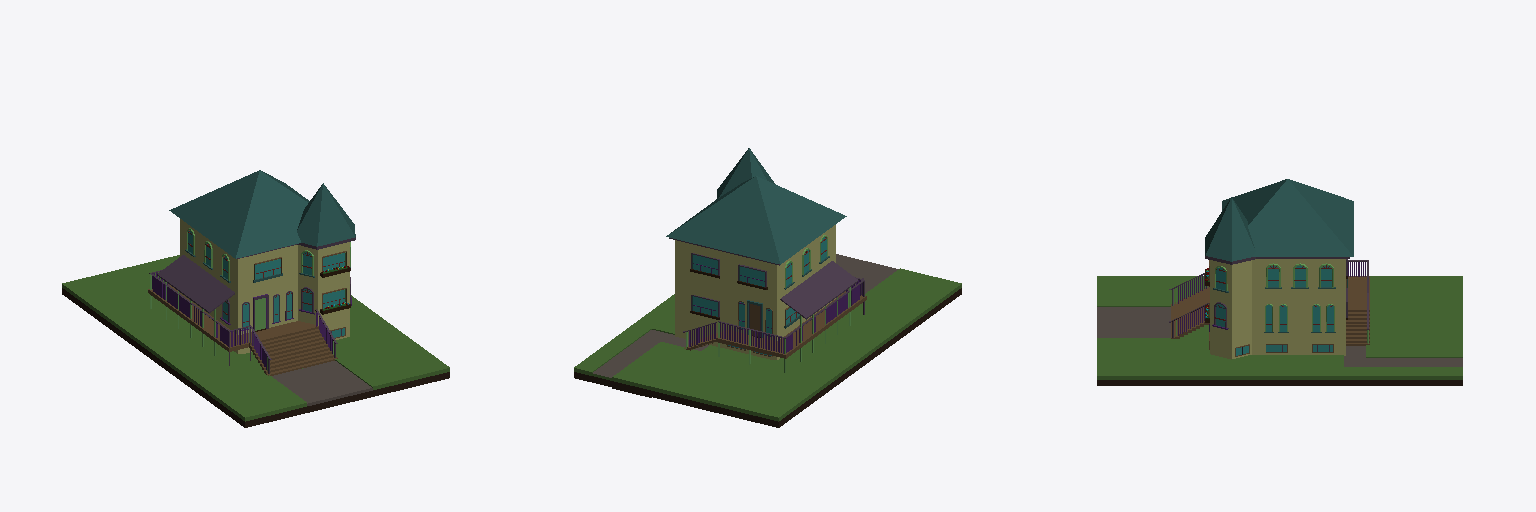
The model's file is house_6_on_lot.obj.
3 views of the same model, side by side, from view 1: azimuth 30°, elevation 25°; view 2: azimuth 150°, elevation 25°; view 3: azimuth 270°, elevation 25° (orthographic).
Visible parts, largest first — view 1: house_6_on_lot; view 2: house_6_on_lot; view 3: house_6_on_lot.
Boxes of the visible parts, box(x1,y1,x2,y2) form: house_6_on_lot: box(62, 170, 449, 427); house_6_on_lot: box(574, 148, 961, 427); house_6_on_lot: box(1097, 179, 1462, 385).
Size of the model in its own units: 18.25 by 13.79 by 28.27.